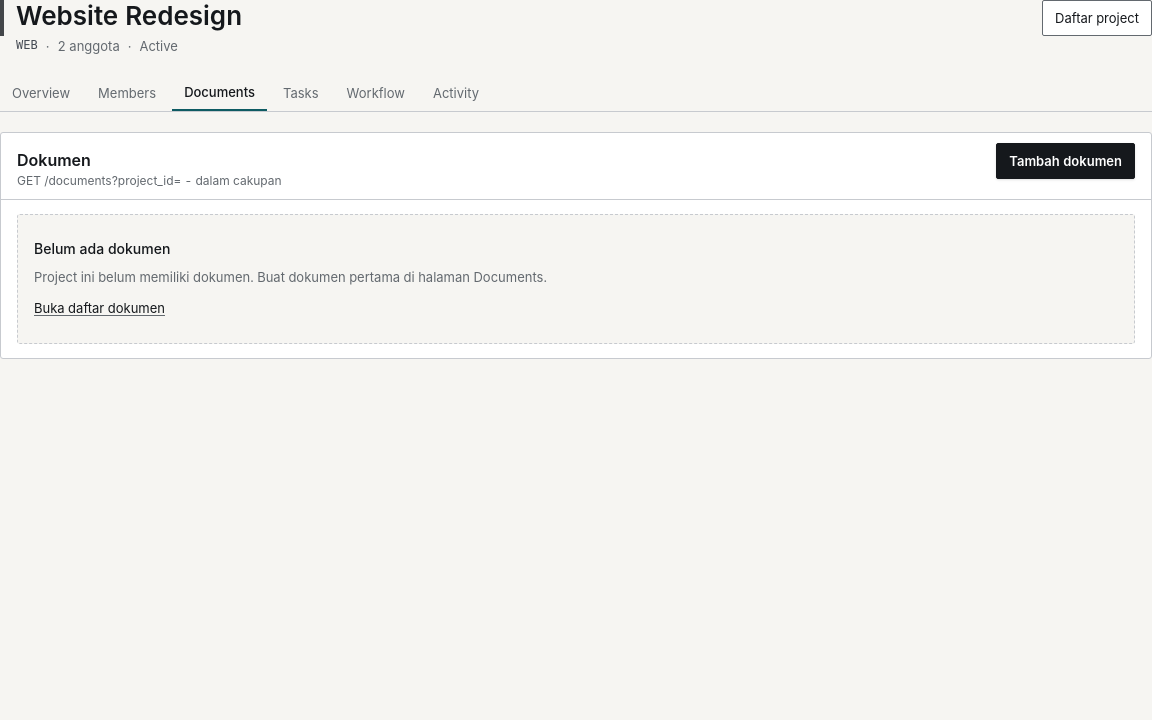
halaman detail project › shortcut Tambah dokumen membuka dialog dengan project terkunci (T-111)
Expected: the heading "Website Redesign" is shown, left=16, top=0, right=242, bottom=32
Click the button "Tambah dokumen" at (1066, 161), box left=996, top=143, right=1135, bottom=179
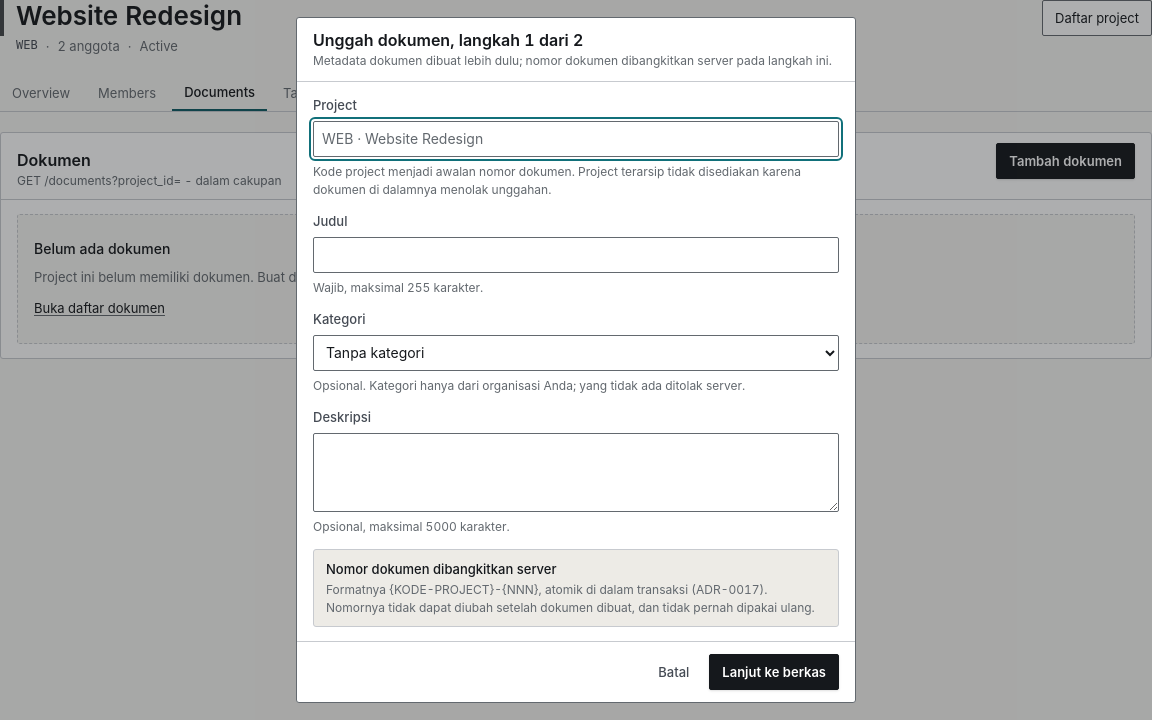
Result: the dialog "langkah 1 dari 2" is shown at left=296, top=17, right=856, bottom=703
Result: the field labelled "Project" holds "WEB · Website Redesign" at left=313, top=121, right=839, bottom=157
